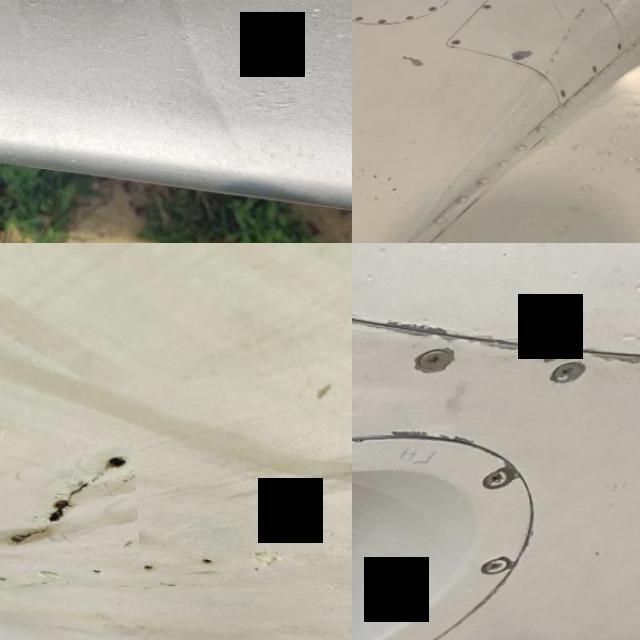Crack: (0, 442, 134, 554)
Dent: (98, 0, 270, 157), (10, 0, 157, 41), (612, 329, 640, 347), (562, 268, 580, 286), (359, 272, 375, 284), (628, 276, 640, 292), (373, 245, 388, 255), (431, 243, 448, 248), (636, 244, 640, 254)
